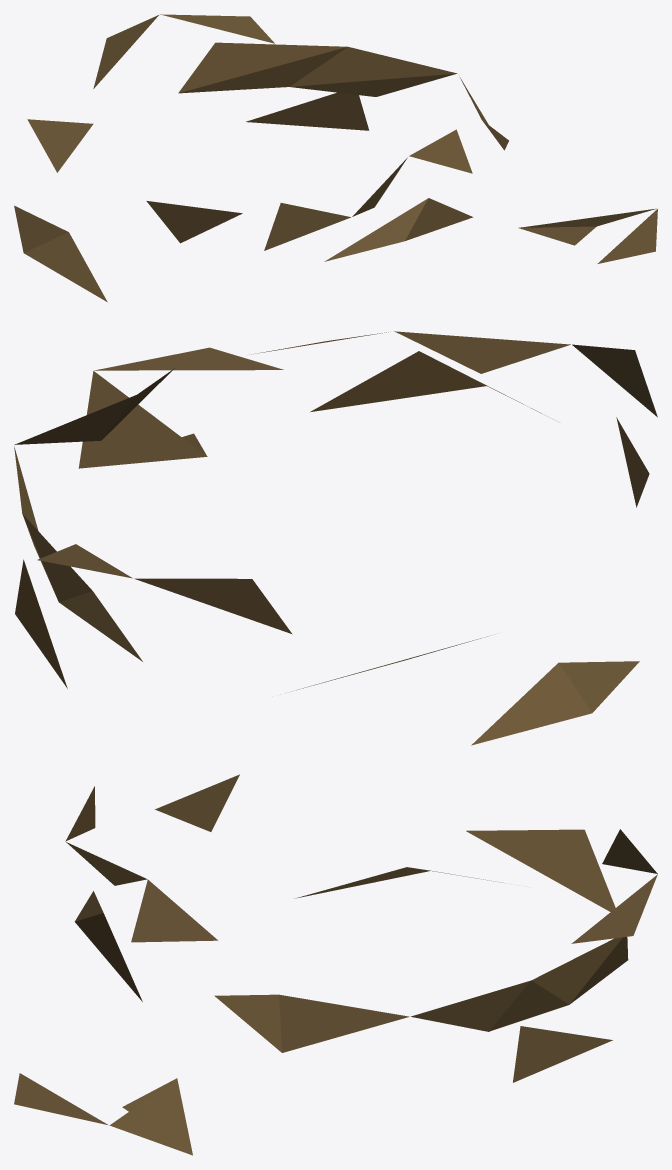
The model's file is cove-rope-coil.lod2.glb.
3 views of the same model, one above another, from view 1: azimuth 30°, elevation 25°; view 2: azimuth 150°, elevation 25°; view 3: azimuth 270°, elevation 25° (orthographic). The views are drawn at different scales.
Parts seen in each view (by area): view 1: Object_4; view 2: Object_4; view 3: Object_4.
Boxes of the visible parts, bbox=[...] form: Object_4: bbox=[14, 14, 657, 302]; Object_4: bbox=[14, 331, 657, 745]; Object_4: bbox=[14, 774, 657, 1155].
Bounding box in the file's own units: 0.6639 × 0.1812 × 0.6379.
